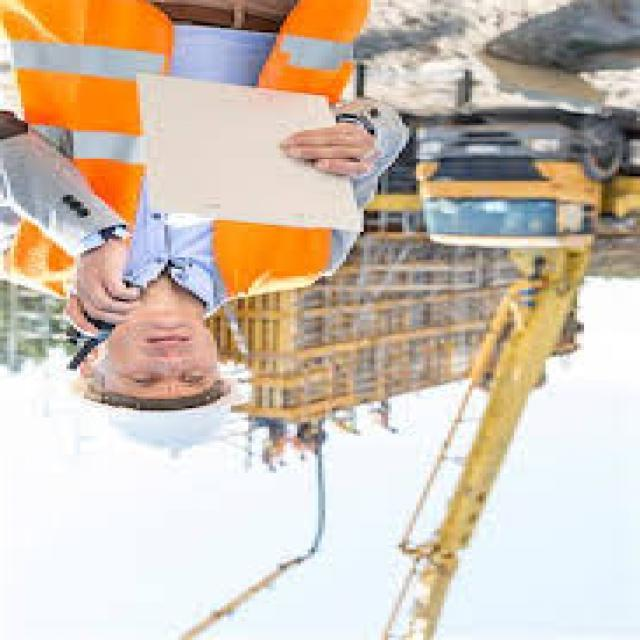safetyhelmet: (68, 327, 234, 482)
